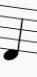note: (3, 0, 22, 63)
